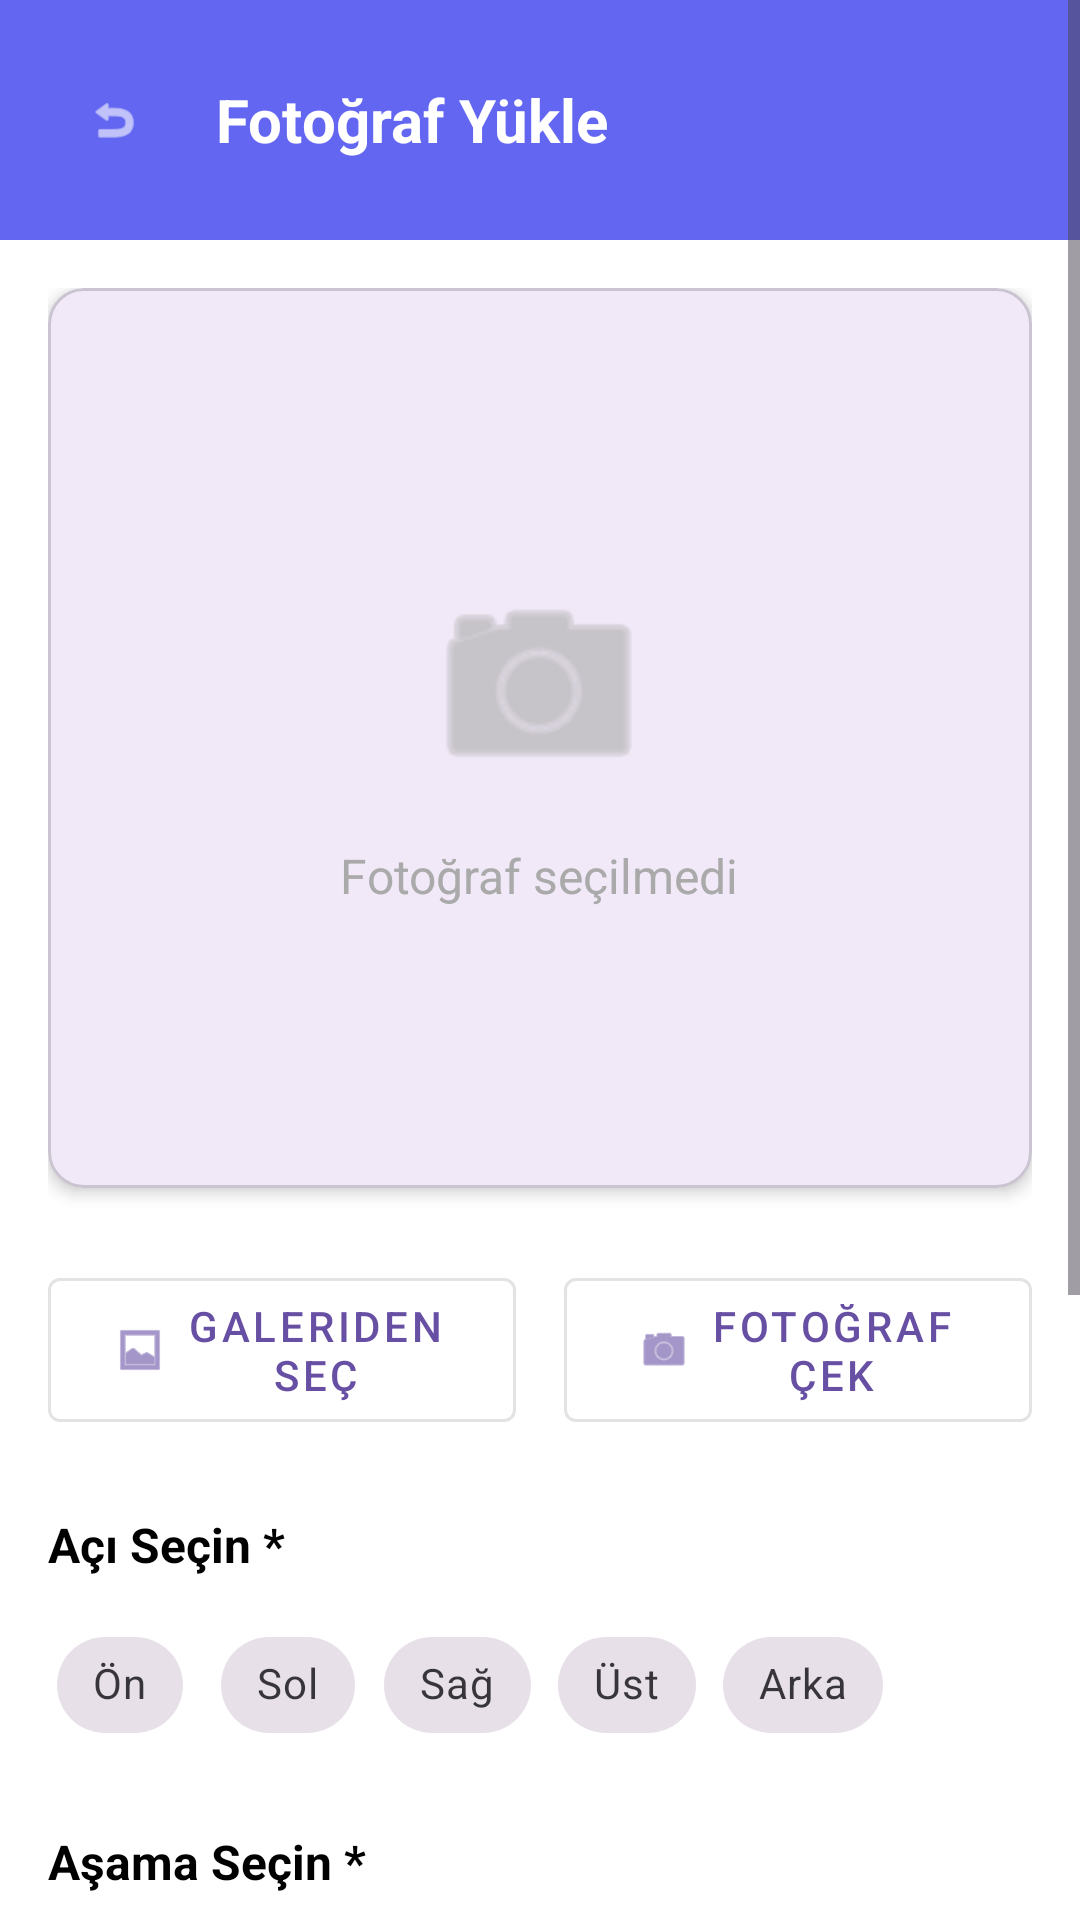

Screen size 1080 x 1920. Icon name, then its center in pixels as (x=x, y=y):
camera: (x=539, y=683)
revert: (x=114, y=120)
